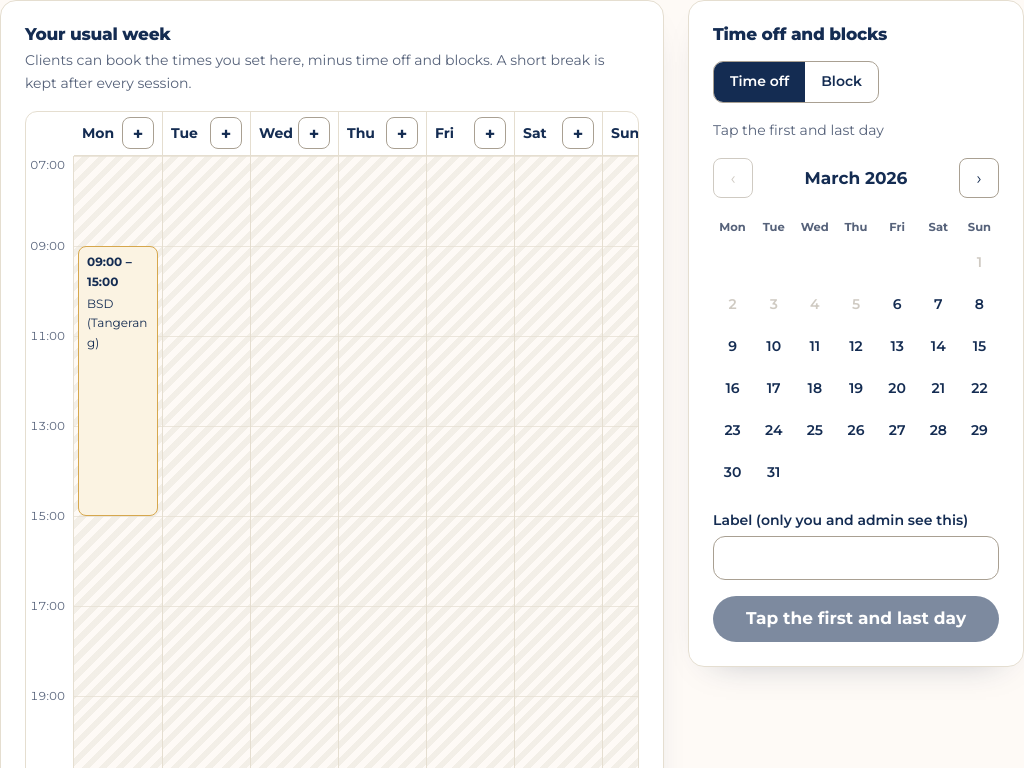
Test case: HoursEditor › adds time off by tapping the first and last day on a calendar
Click the button named "Monday 16 March".
click(733, 389)  # box [713,369,752,409]
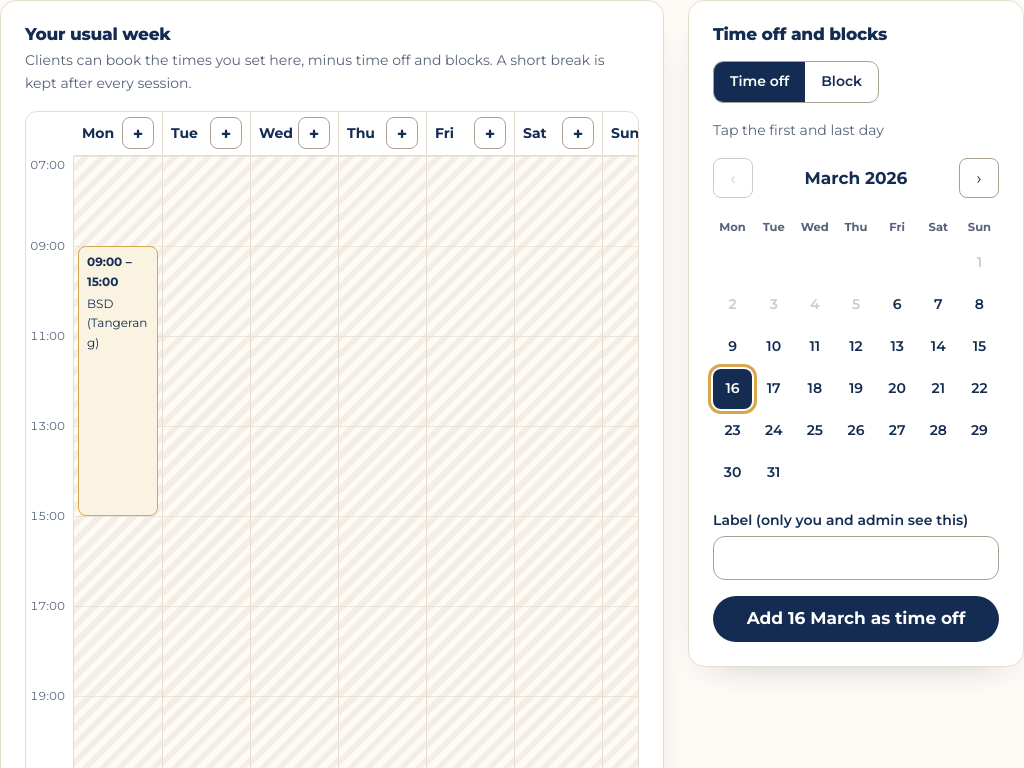
Click the button named "Friday 20 March".
click(897, 389)  # box [878,369,917,409]
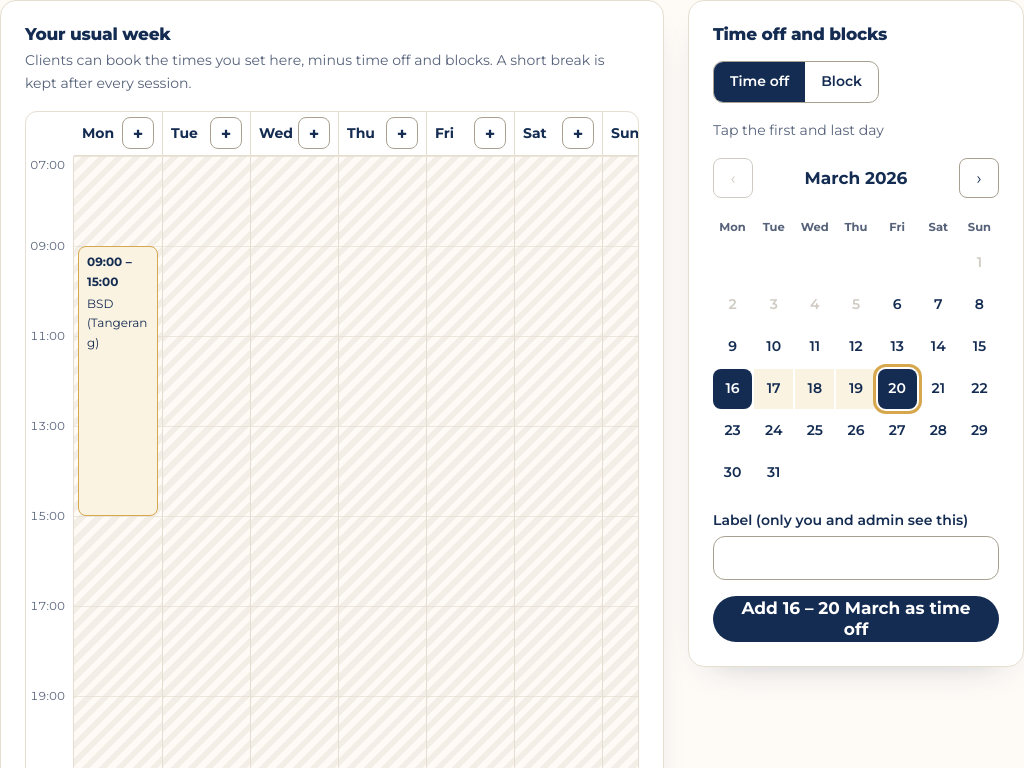
Click the button "Add 16 – 20 March as time off".
click(856, 619)  # box [713,596,999,642]
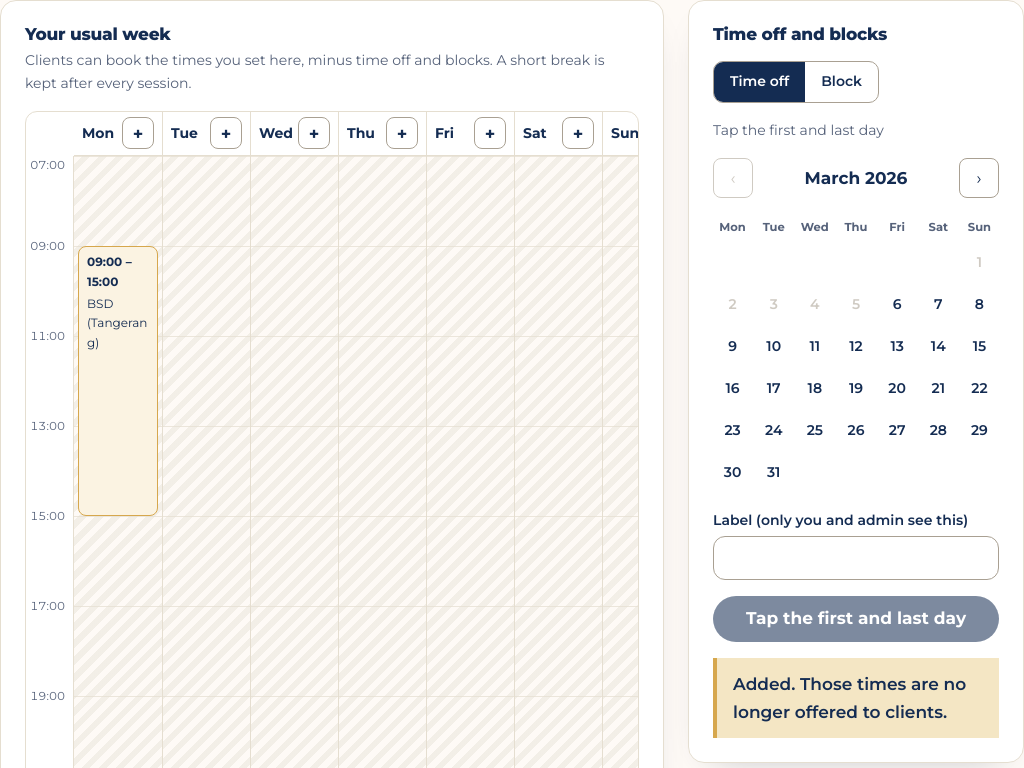
Expected: the text "Added. Those times are no longer offered to clients." is shown, [713,658,999,738]
